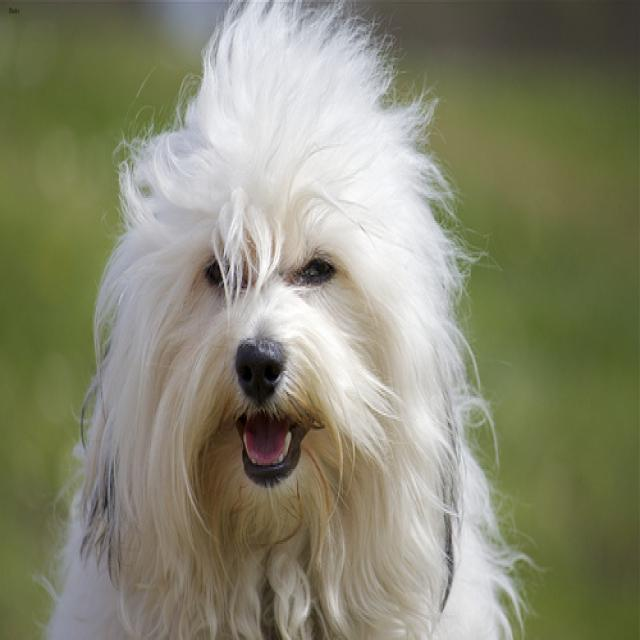dog-havanese: (22, 2, 547, 636)
